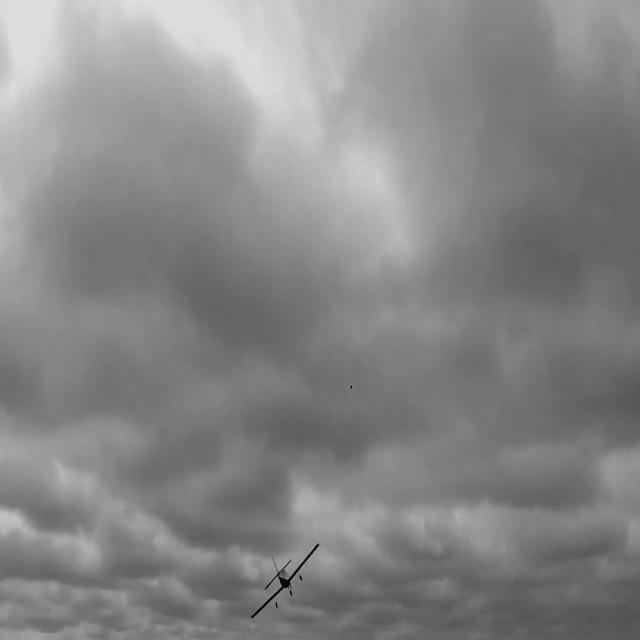iha: (270, 568, 306, 595)
